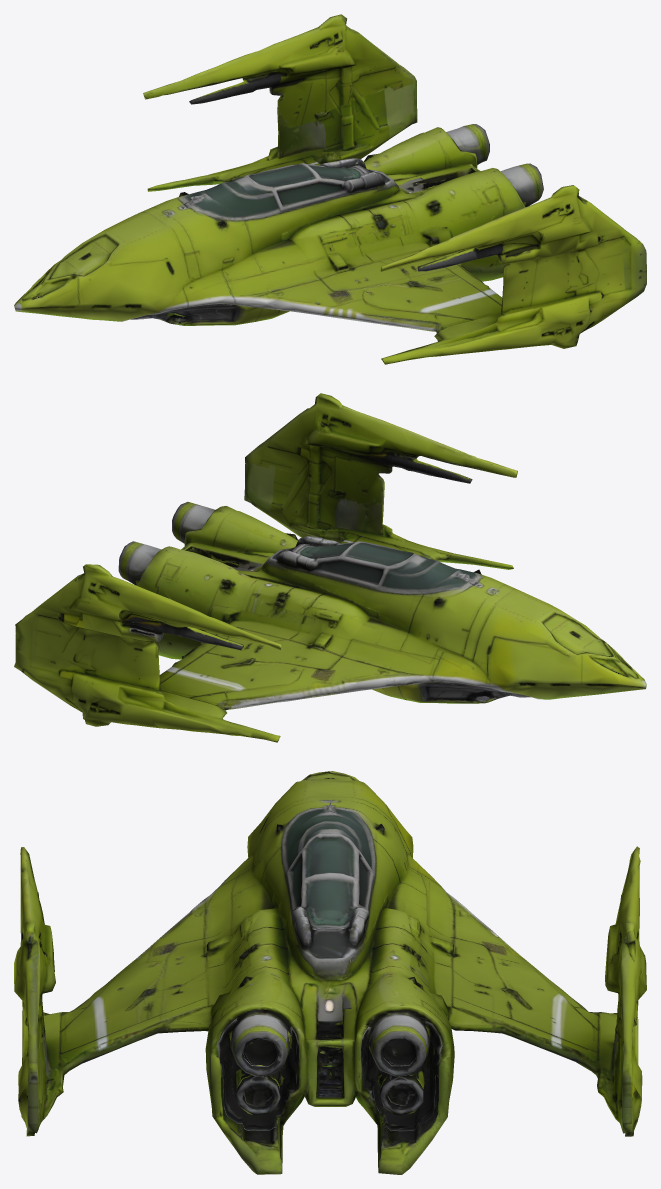
File: player.glb
The picture shows the model from 3 angles, top to bottom: view 1: azimuth 30°, elevation 25°; view 2: azimuth 150°, elevation 25°; view 3: azimuth 270°, elevation 25°; orthographic projection. The views are drawn at different scales.
Parts seen in each view (by area): view 1: Mesh1.0; view 2: Mesh1.0; view 3: Mesh1.0.
Part boxes in pixels (<box>): Mesh1.0: <box>14,14,646,364</box>; Mesh1.0: <box>14,393,646,742</box>; Mesh1.0: <box>14,771,646,1174</box>.
Bounding box in the file's own units: 3.37 × 1 × 2.77.
Materials: 1 (1 with a texture image).
